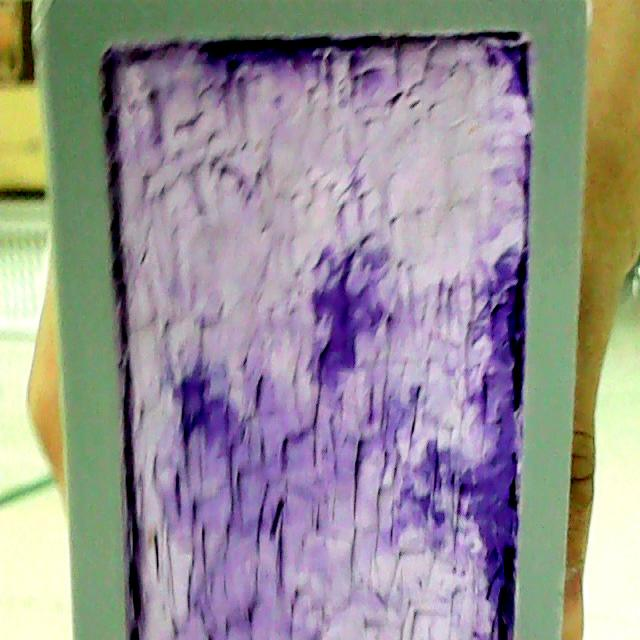block: (25, 1, 584, 640)
